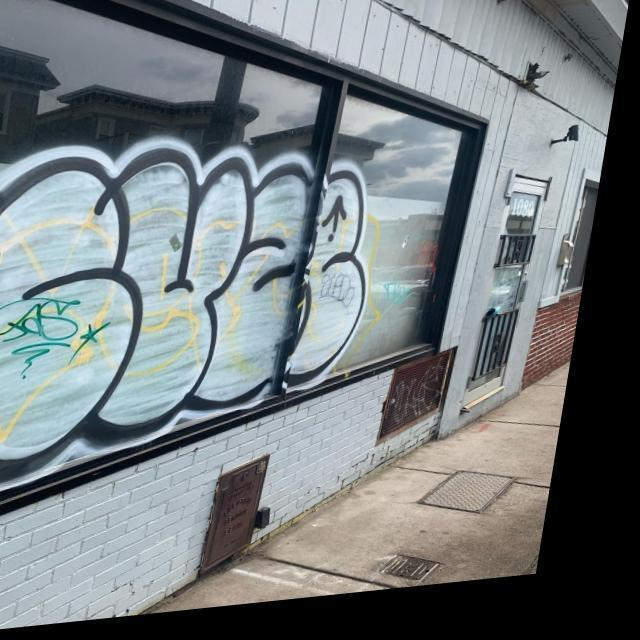-: (0, 98, 411, 500), (0, 272, 126, 392), (325, 270, 375, 332)
